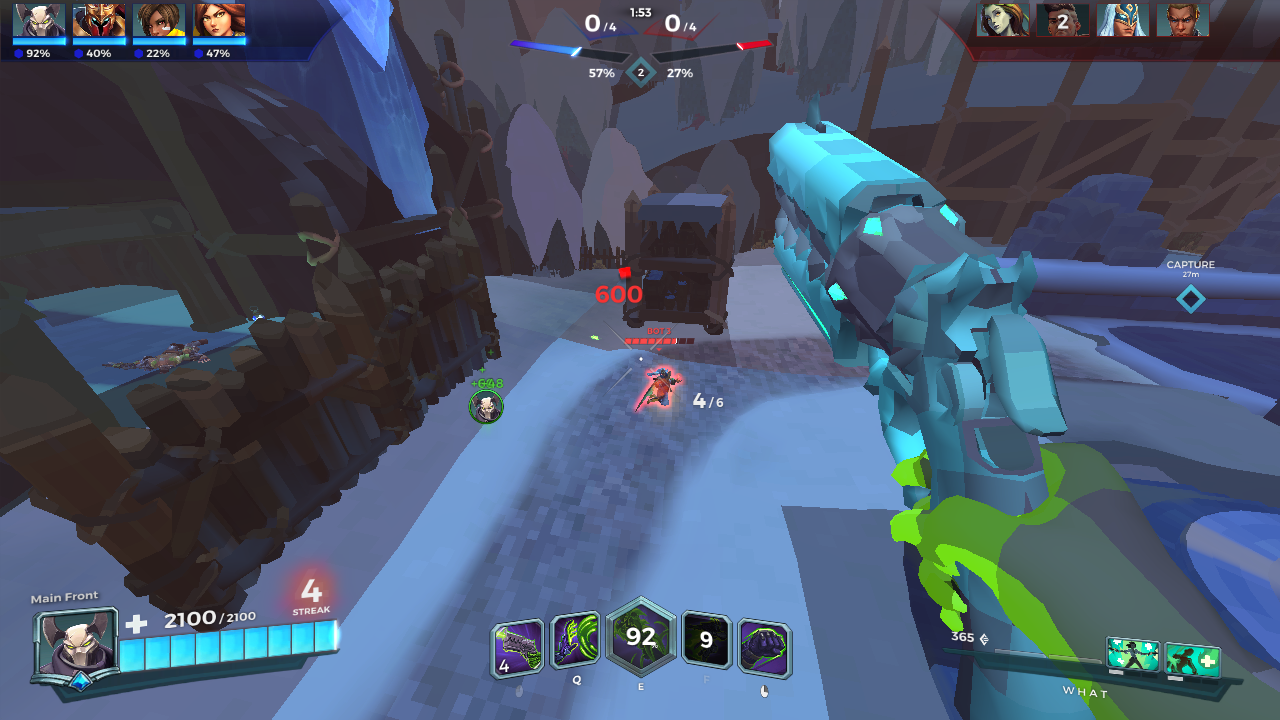model: (637, 359, 678, 417)
